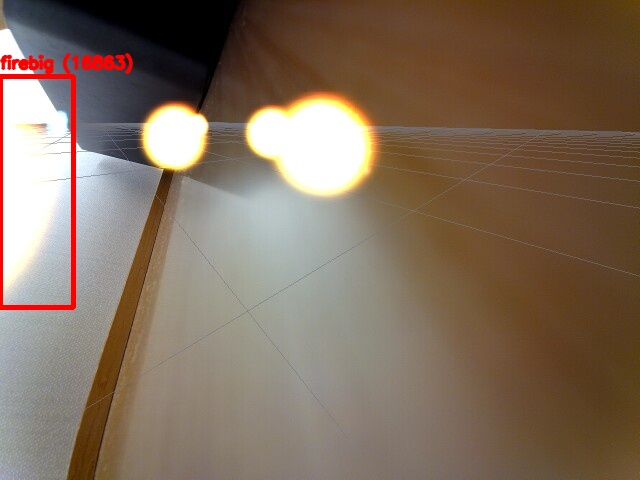firebig: (0, 76, 73, 307)
